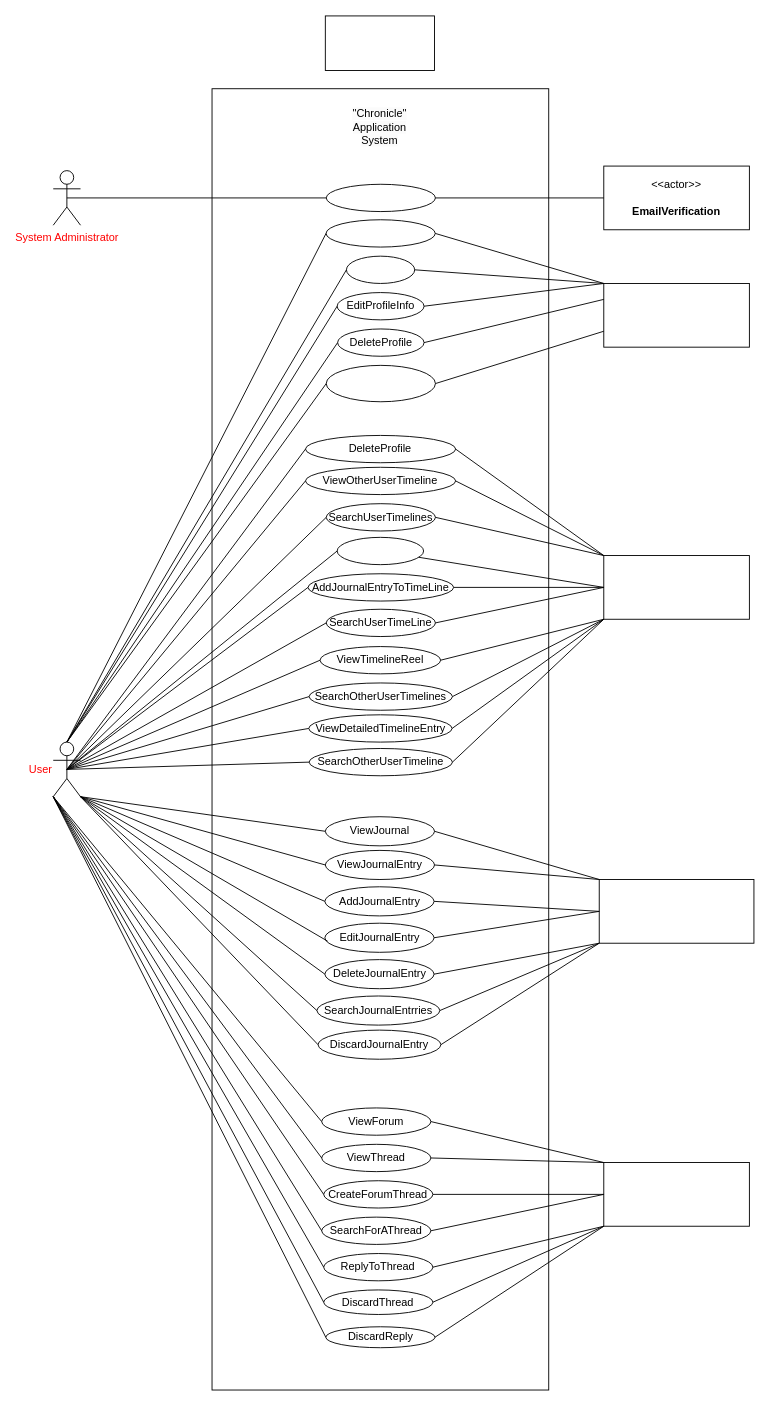
Some shapes in this 770 by 1406 pixel diagram are drawn without their labels. Each missing label, with the centre of its shape:
"<<actor>> ForumManagementSystem" goes at [676,1194].
"<<actor>> JournalManagementSystem" goes at [676,911].
"<<actor>> TimelineManagemetSystem" goes at [676,587].
"<<actor>> UserManagementSystem" goes at [676,315].
"Chronicle System Use Case Diagram" goes at [379,43].
"CreateUserAccount" goes at [380,233].
"UserSignIn" goes at [380,269].
"VerifyNewUser" goes at [380,197].
"ViewOtherUser Profile" goes at [380,383].
"ViewTimeLine" goes at [380,550].
